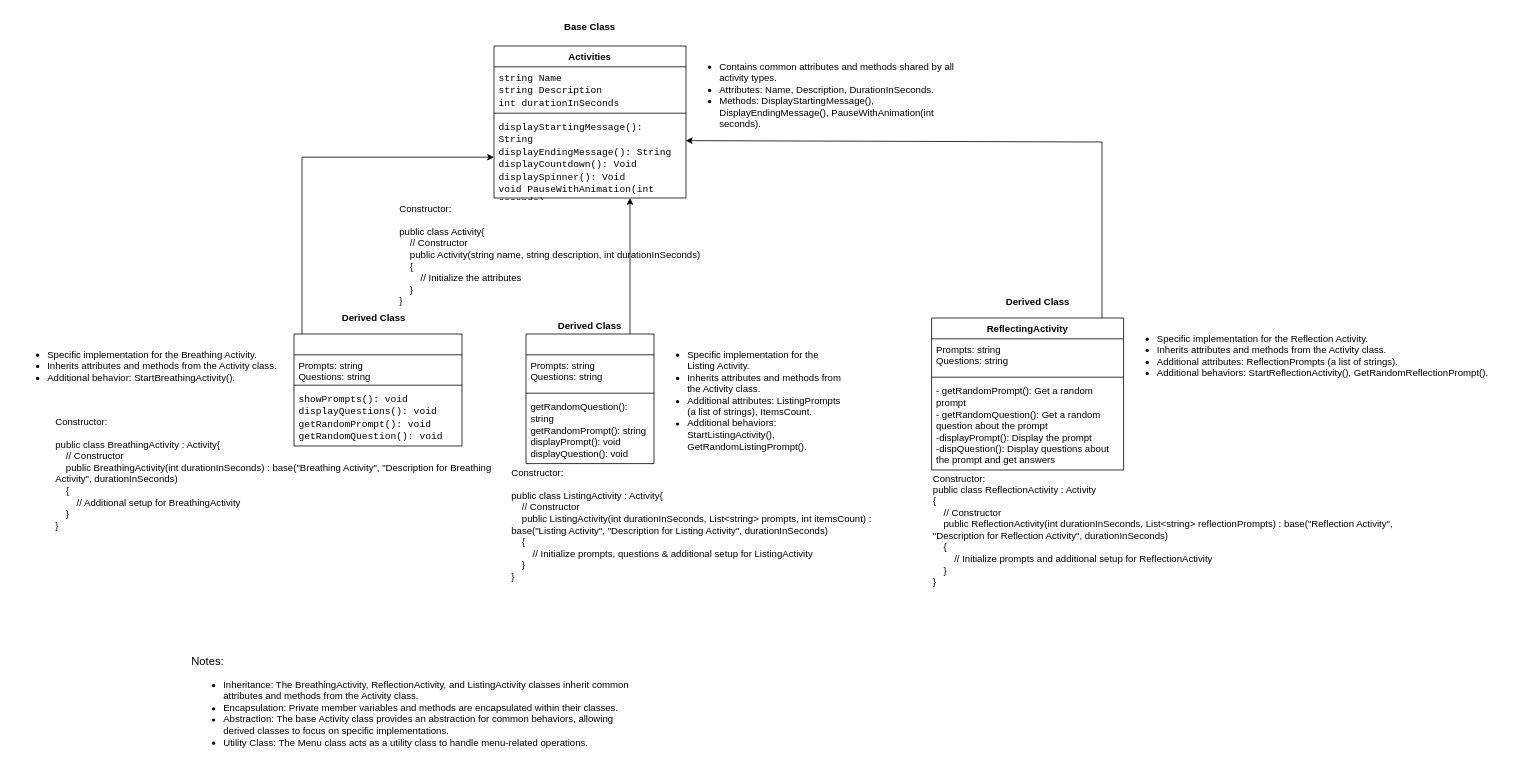
Some shapes in this 1521 by 779 pixel diagram are drawn without their labels. Here are the shapes that lost their labels. From the top down, the box of each, then its label:
(293, 333, 462, 446): BreathingActivity
(525, 333, 654, 464): ListingActivity
